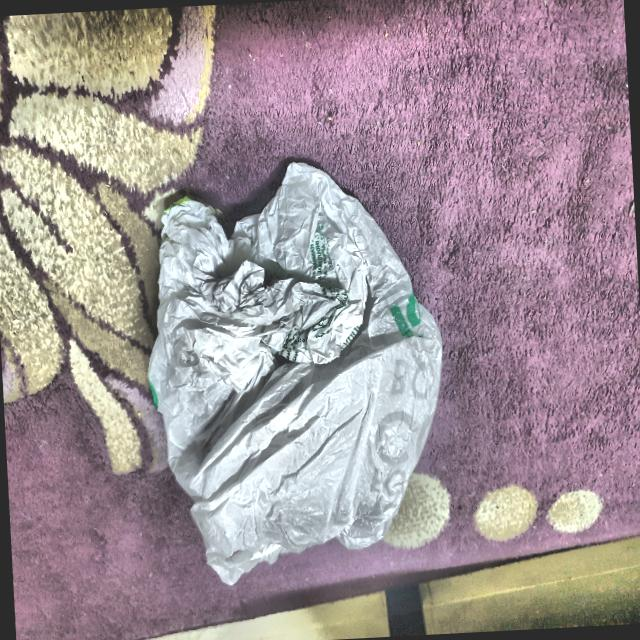plastic bag: (124, 146, 473, 596)
